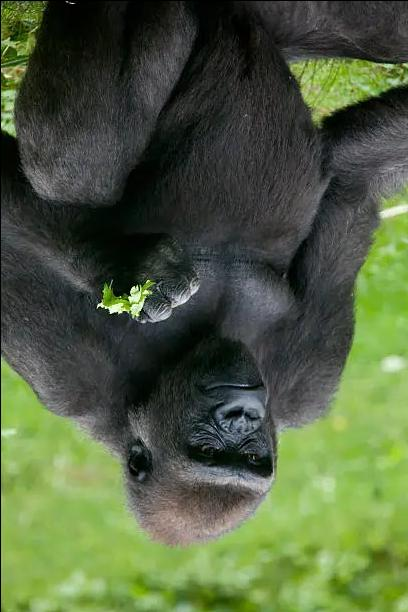gorille_Autres: (0, 0, 408, 547)
